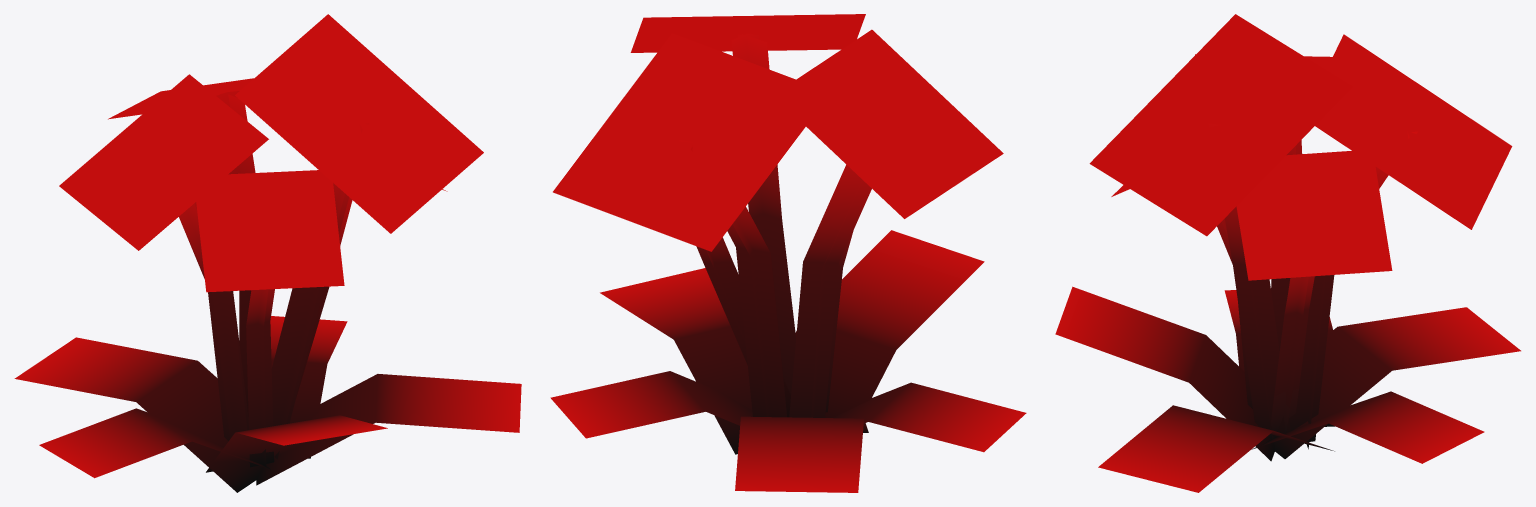
Rendered from SM_Flower_08.fbx.
The picture shows the model from 3 angles, left to right: view 1: azimuth 30°, elevation 25°; view 2: azimuth 150°, elevation 25°; view 3: azimuth 270°, elevation 25°; orthographic projection. The views are drawn at different scales.
Visible parts, largest first — view 1: SM_Nature_Flower_08; view 2: SM_Nature_Flower_08; view 3: SM_Nature_Flower_08.
Boxes of the visible parts, box(x1,y1,x2,y2) form: SM_Nature_Flower_08: box(14, 14, 521, 492); SM_Nature_Flower_08: box(550, 14, 1026, 492); SM_Nature_Flower_08: box(1055, 14, 1520, 492).
Bounding box in the file's own units: 23.29 × 21.3 × 21.95.
